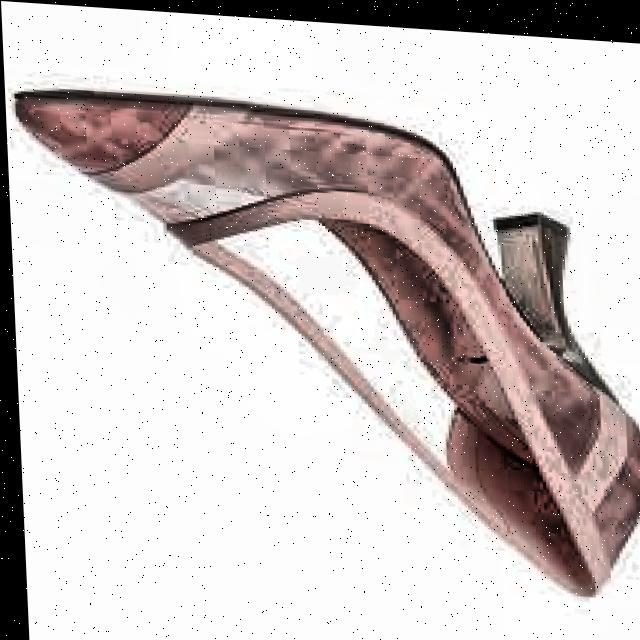shoes: (3, 65, 640, 614)
